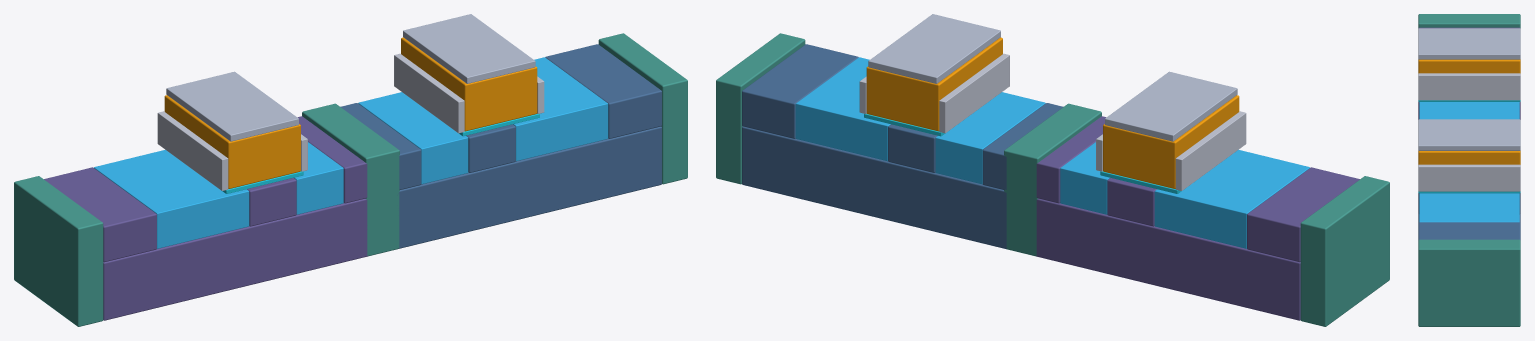
File: feol-stack.glb
The picture shows the model from 3 angles, left to right: view 1: azimuth 30°, elevation 25°; view 2: azimuth 150°, elevation 25°; view 3: azimuth 270°, elevation 25°; orthographic projection. The views are drawn at different scales.
Visible parts, largest first — view 1: pwell, nwell, sti_l, sd1, sti_mid, sd4, top.005, sil, sil.001, top, gate.001, gate (+9 smaller); view 2: pwell, nwell, sti_l, sd1, sd4, sti_mid, top.005, sil, sil.001, top, gate.001, gate (+9 smaller); view 3: sti_r, sil, sil.001, sd4, sp_r, sp_r.001, top.005, sd2, gate, gate.001, sti_l, gox.001 (+2 smaller).
Boxes of the visible parts, x1,y1,x2,y2 form: pwell: (103,198,368,320); nwell: (397,126,661,249); sti_l: (14,176,103,326); sd1: (94,149,249,248); sti_mid: (302,103,399,255); sd4: (513,57,608,161); top.005: (545,44,661,138); sil: (166,71,298,141); sil.001: (403,14,535,83); top: (44,167,156,262); gate.001: (401,37,537,131); gate: (164,95,300,188); pwell: (1035,198,1300,320); nwell: (742,126,1006,249); sti_l: (1300,176,1389,326); sd1: (1154,149,1309,248); sd4: (795,57,890,161); sti_mid: (1004,103,1101,256); top.005: (742,44,858,138); sil: (1105,71,1237,141); sil.001: (868,14,1000,83); top: (1247,167,1359,262); gate.001: (866,37,1002,131); gate: (1103,95,1239,188); sti_r: (1418,239,1520,326); sil: (1418,28,1520,59); sil.001: (1418,119,1520,150); sd4: (1419,193,1519,222); sp_r: (1418,73,1520,100); sp_r.001: (1418,164,1520,191); top.005: (1418,222,1520,240); sd2: (1419,102,1519,119); gate: (1418,59,1520,73); gate.001: (1418,150,1520,164); sti_l: (1418,14,1520,28); gox.001: (1418,191,1520,193).
Bounding box in the file's own units: 2.84 × 0.69 × 0.52.
